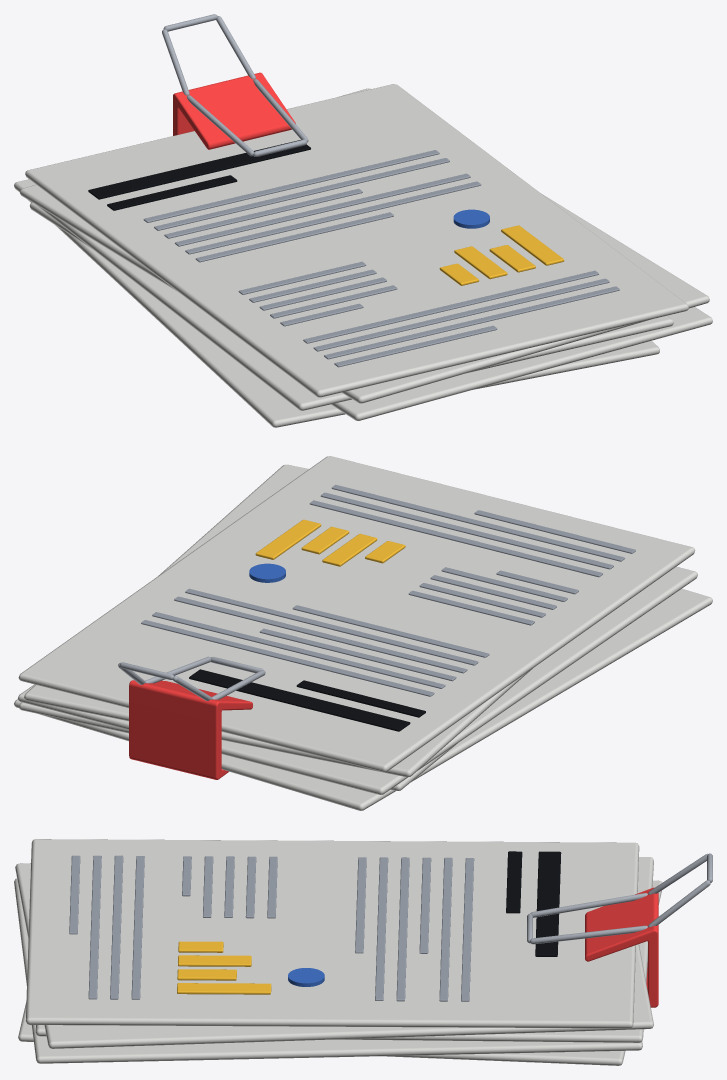
Rendered from paper-stack.glb.
The picture shows the model from 3 angles, top to bottom: view 1: azimuth 30°, elevation 25°; view 2: azimuth 150°, elevation 25°; view 3: azimuth 270°, elevation 25°; orthographic projection.
Visible parts, largest first — view 1: sheet_5, sheet_text, sheet_1, sheet_3, sheet_4, sheet_2, binder_clip, sheet_title, sheet_figure_bars, clip_handle_a, clip_handle_b; view 2: sheet_5, sheet_text, sheet_3, sheet_1, binder_clip, sheet_4, sheet_title, sheet_figure_bars, clip_handle_a, sheet_2, clip_handle_b, sheet_figure_dot; view 3: sheet_5, sheet_text, sheet_2, sheet_4, binder_clip, sheet_figure_bars, sheet_3, sheet_title, sheet_1, clip_handle_a, clip_handle_b, sheet_figure_dot.
Part boxes in pixels (bbox=[...]): sheet_5: bbox=[25, 84, 688, 397]; sheet_text: bbox=[143, 150, 619, 367]; sheet_1: bbox=[28, 200, 659, 427]; sheet_3: bbox=[14, 179, 673, 410]; sheet_4: bbox=[19, 88, 709, 403]; sheet_2: bbox=[29, 202, 712, 420]; binder_clip: bbox=[173, 72, 295, 149]; sheet_title: bbox=[88, 140, 310, 210]; sheet_figure_bars: bbox=[439, 225, 564, 285]; clip_handle_a: bbox=[187, 79, 308, 156]; clip_handle_b: bbox=[162, 14, 255, 95]; sheet_5: bbox=[18, 456, 695, 772]; sheet_text: bbox=[141, 485, 635, 696]; sheet_3: bbox=[18, 566, 697, 794]; sheet_1: bbox=[14, 589, 712, 810]; binder_clip: bbox=[129, 680, 252, 779]; sheet_4: bbox=[24, 464, 532, 777]; sheet_title: bbox=[189, 669, 425, 731]; sheet_figure_bars: bbox=[255, 519, 405, 566]; clip_handle_a: bbox=[145, 656, 265, 699]; sheet_2: bbox=[19, 702, 457, 790]; clip_handle_b: bbox=[118, 662, 212, 700]; sheet_figure_dot: bbox=[249, 563, 285, 582]; sheet_5: bbox=[25, 839, 639, 1028]; sheet_text: bbox=[69, 855, 474, 1001]; sheet_2: bbox=[14, 878, 642, 1063]; sheet_4: bbox=[15, 863, 653, 1048]; binder_clip: bbox=[585, 887, 658, 1007]; sheet_figure_bars: bbox=[177, 941, 271, 994]; sheet_3: bbox=[35, 857, 653, 1042]; sheet_title: bbox=[506, 851, 561, 956]; sheet_1: bbox=[18, 880, 662, 1065]; clip_handle_a: bbox=[527, 893, 647, 944]; clip_handle_b: bbox=[648, 853, 712, 927]; sheet_figure_dot: bbox=[288, 968, 324, 986].
Bounding box in the file's own units: 0.2457 × 0.0654 × 0.3416.
